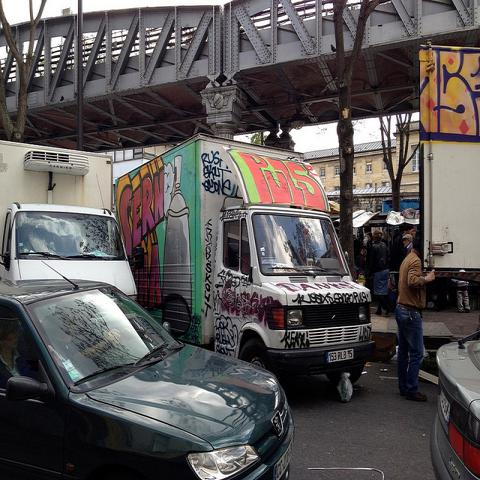car: (4, 279, 296, 472), (433, 329, 479, 479)
truck: (117, 134, 372, 389), (415, 41, 479, 287), (1, 201, 138, 303)
